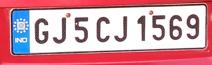1: (134, 14, 148, 44)
5: (72, 15, 91, 44), (151, 14, 167, 42)
6: (169, 13, 185, 40)
9: (186, 12, 203, 41)
C: (94, 16, 112, 43)
G: (32, 17, 50, 46)
J: (51, 16, 69, 45), (113, 15, 131, 43)
